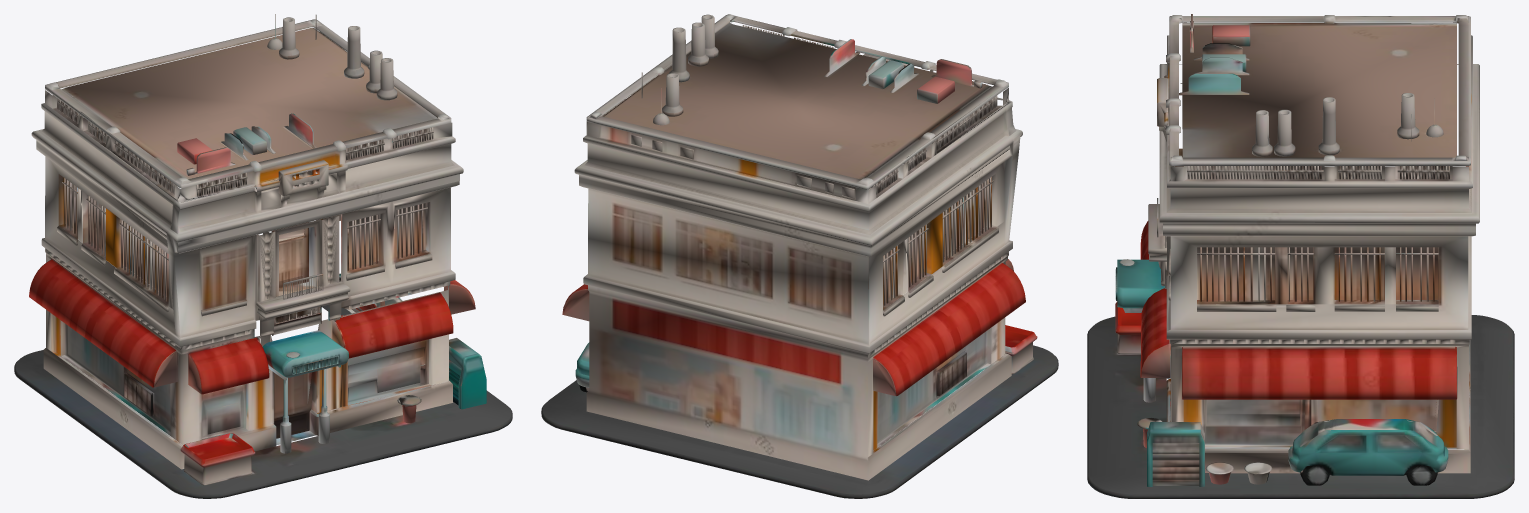
The model's file is supermarket.glb.
3 views of the same model, side by side, from view 1: azimuth 30°, elevation 25°; view 2: azimuth 150°, elevation 25°; view 3: azimuth 270°, elevation 25° (orthographic). The views are drawn at different scales.
Visible parts, largest first — view 1: tripo_node_66913f8a; view 2: tripo_node_66913f8a; view 3: tripo_node_66913f8a.
Part boxes in pixels (x1,y1,x2,y2): tripo_node_66913f8a: [14, 14, 512, 498]; tripo_node_66913f8a: [541, 14, 1058, 498]; tripo_node_66913f8a: [1087, 14, 1514, 498].
Size of the model in its own units: 1 by 0.9386 by 0.9979.
1 material, 1 textured.
